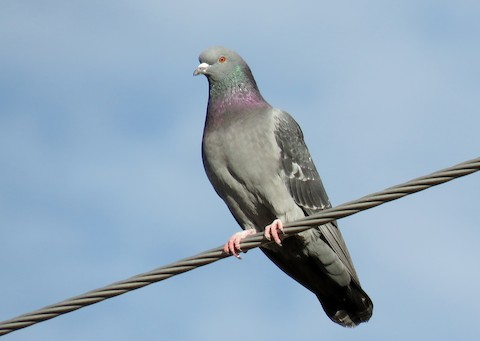pigeon: (191, 43, 382, 327)
